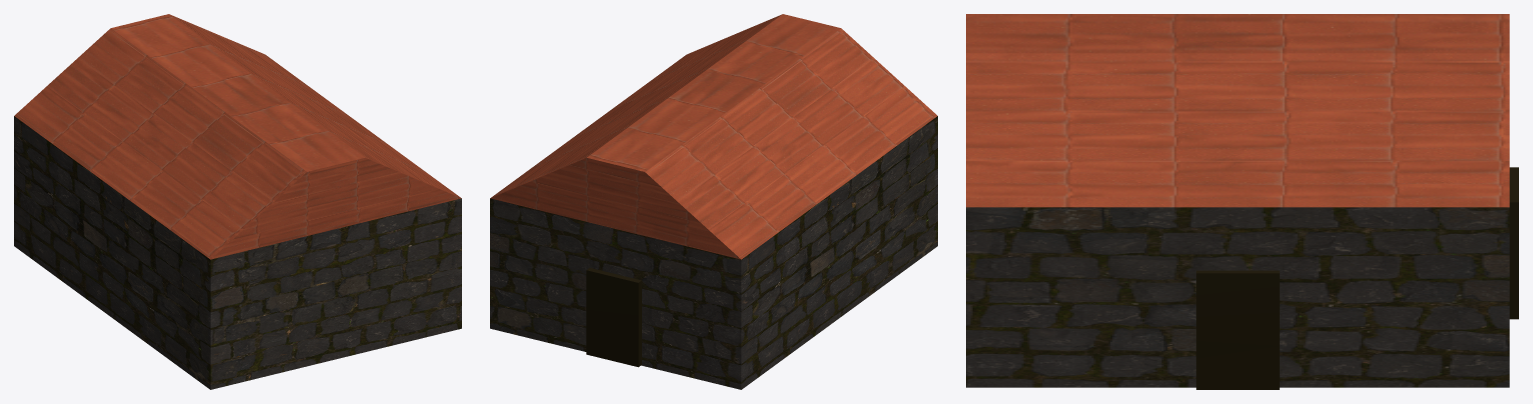
File: rural-house-small_1.fbx
3 renders of one model, left to right at view 1: azimuth 30°, elevation 25°; view 2: azimuth 150°, elevation 25°; view 3: azimuth 270°, elevation 25°, orthographic. The views are drawn at different scales.
Visible parts, largest first — view 1: Cube.034; view 2: Cube.034; view 3: Cube.034.
Boxes of the visible parts, box(x1,y1,x2,y2) form: Cube.034: box(14, 14, 461, 389); Cube.034: box(490, 14, 937, 389); Cube.034: box(966, 14, 1518, 389).
Size of the model in its own units: 410 by 298 by 556.
